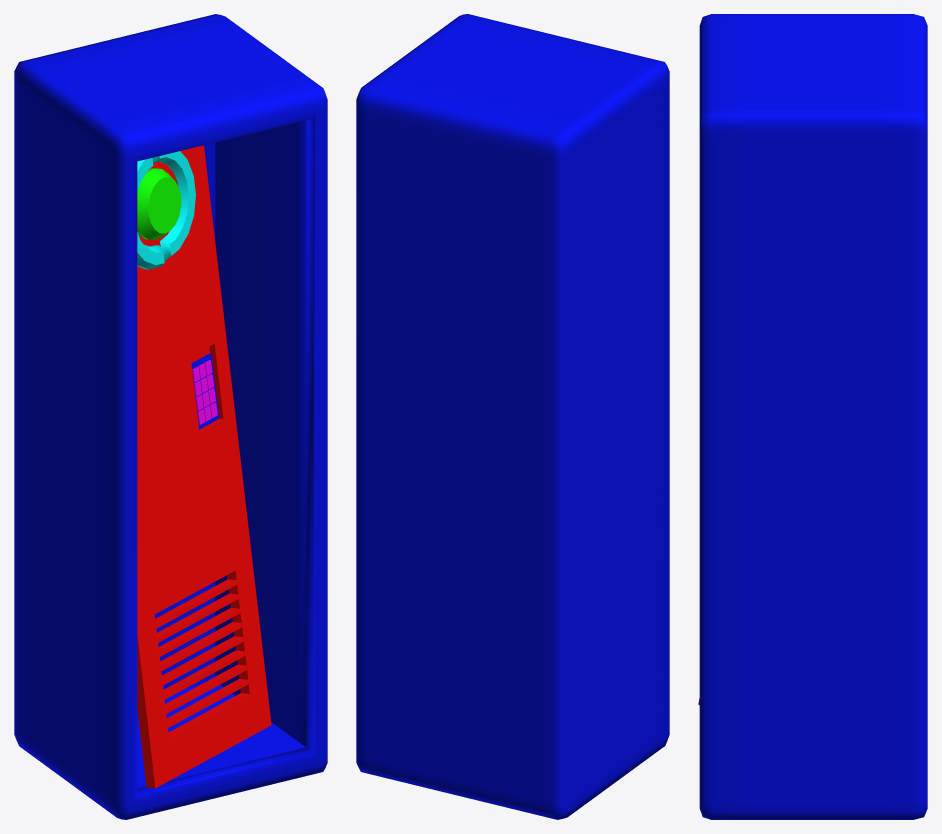
File: SM_BrokenLocker_1.FBX
The picture shows the model from 3 angles, left to right: view 1: azimuth 30°, elevation 25°; view 2: azimuth 150°, elevation 25°; view 3: azimuth 270°, elevation 25°; orthographic projection. The views are drawn at different scales.
Parts seen in each view (by area): view 1: Locker002; view 2: Locker002; view 3: Locker002.
Boxes of the visible parts, bbox=[...] form: Locker002: bbox=[14, 14, 327, 819]; Locker002: bbox=[356, 14, 669, 819]; Locker002: bbox=[698, 14, 927, 819].
Size of the model in its own units: 63.98 by 200 by 58.8.
